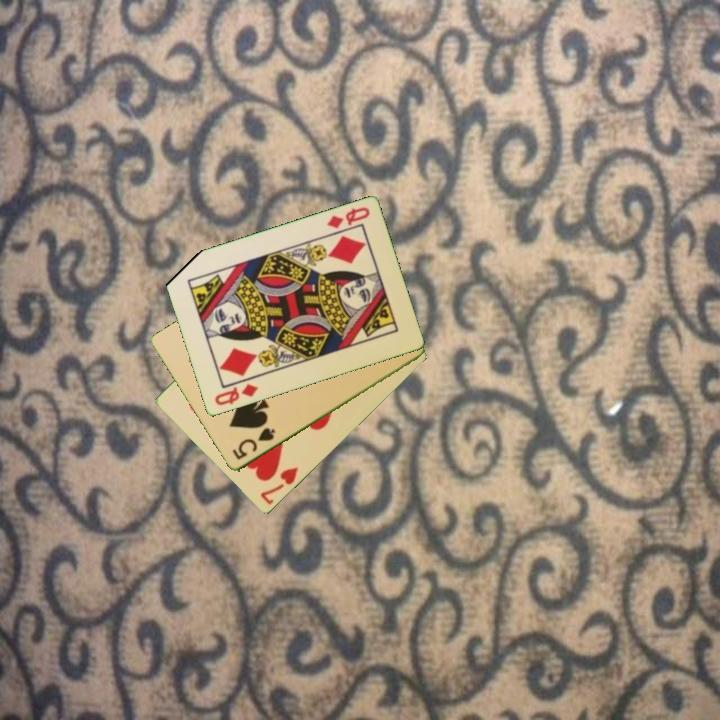5s: (228, 424, 279, 463)
7h: (257, 463, 302, 508)
Qd: (211, 380, 261, 409), (323, 204, 373, 232)
